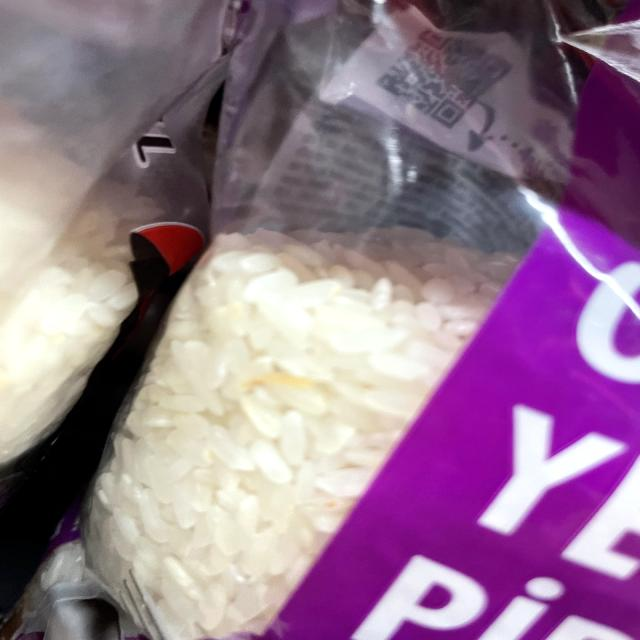rice: (91, 247, 505, 614)
